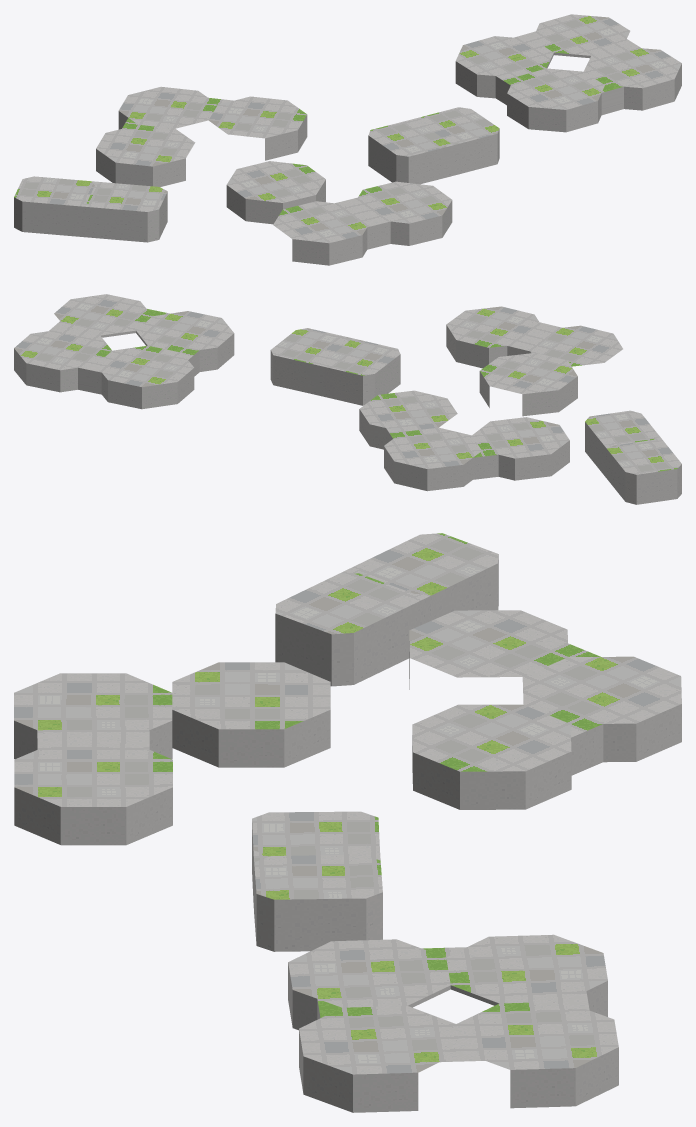
Rendered from kd_connection_world-outer_surface_7_2.glb.
3 views of the same model, one above another, from view 1: azimuth 30°, elevation 25°; view 2: azimuth 150°, elevation 25°; view 3: azimuth 270°, elevation 25° (orthographic). The views are drawn at different scales.
Visible parts, largest first — view 1: kd_connection_world-outer_surface_7_2; view 2: kd_connection_world-outer_surface_7_2; view 3: kd_connection_world-outer_surface_7_2.
Boxes of the visible parts, left/top/right/bottom form: kd_connection_world-outer_surface_7_2: left=14, top=14, right=681, bottom=265; kd_connection_world-outer_surface_7_2: left=14, top=294, right=681, bottom=504; kd_connection_world-outer_surface_7_2: left=14, top=533, right=681, bottom=1112.
Size of the model in its own units: 1101 by 62.57 by 581.
1 material, 1 textured.
